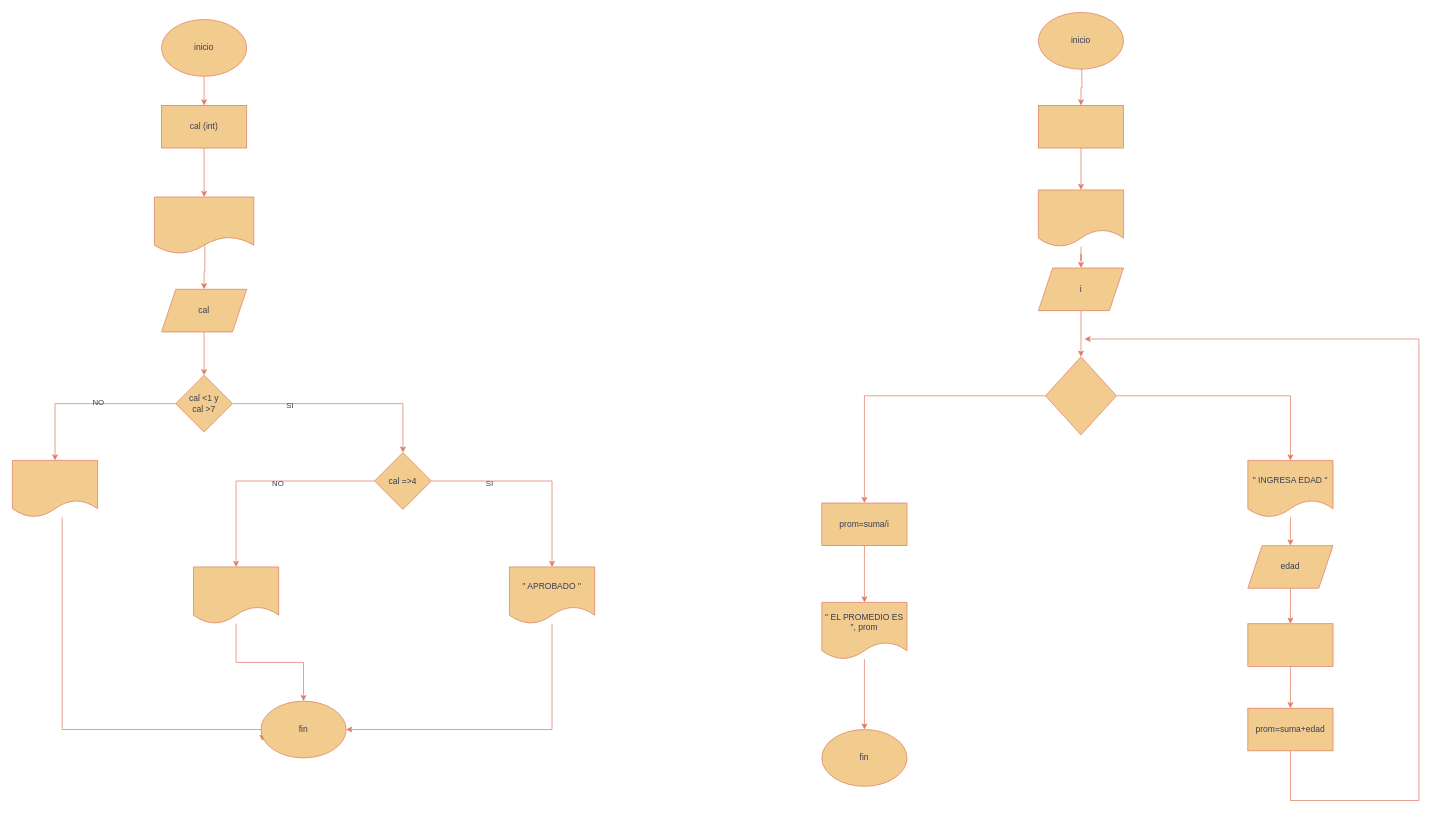
Image size: 1437x819. Some labels were removed from this diagram. Each missing label, with the box of its shape:
" CUANTAS PERSONAS PARTICIPAN ": (1038, 189, 1124, 247)
" INGRESA LA CALIFICACIÓN ": (154, 196, 254, 254)
" NO ESTA DENTRO DEL RANGO ": (12, 460, 98, 517)
" REPROBADO ": (193, 566, 279, 624)
i!=0: (1045, 356, 1116, 435)
i=1-1: (1247, 623, 1333, 666)
prom, suma,edad, i (int): (1038, 105, 1124, 148)
